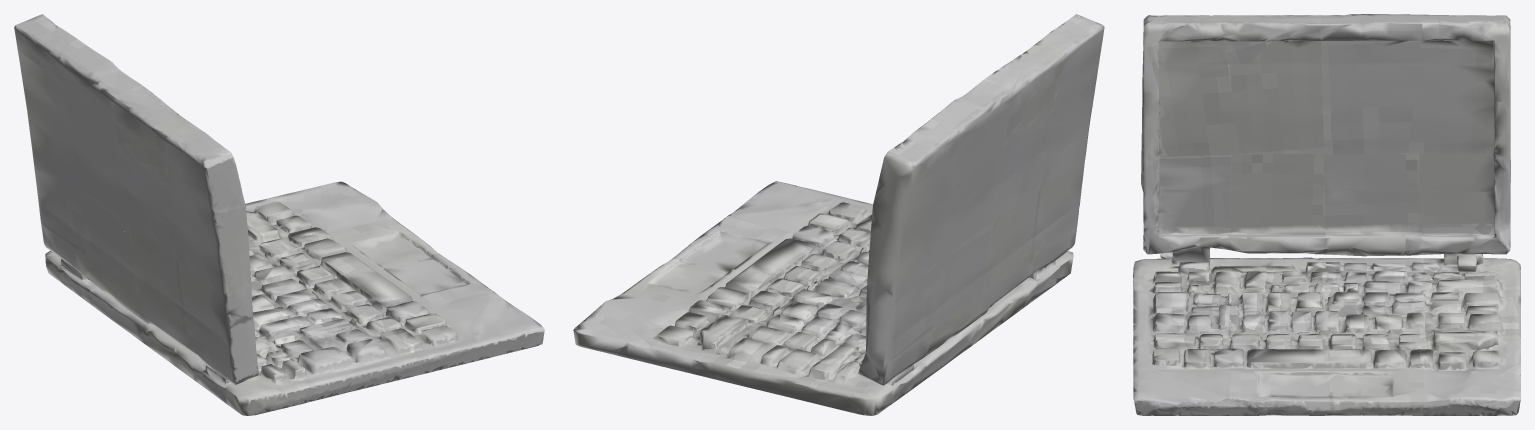
The model's file is l_laptop.glb.
3 renders of one model, left to right at view 1: azimuth 30°, elevation 25°; view 2: azimuth 150°, elevation 25°; view 3: azimuth 270°, elevation 25°, orthographic. The views are drawn at different scales.
Parts seen in each view (by area): view 1: tripo_node_a438e8d8-43f8-4924-bec3-e62648825d39; view 2: tripo_node_a438e8d8-43f8-4924-bec3-e62648825d39; view 3: tripo_node_a438e8d8-43f8-4924-bec3-e62648825d39.
Boxes of the visible parts, x1,y1,x2,y2 form: tripo_node_a438e8d8-43f8-4924-bec3-e62648825d39: [14, 14, 544, 415]; tripo_node_a438e8d8-43f8-4924-bec3-e62648825d39: [573, 14, 1104, 415]; tripo_node_a438e8d8-43f8-4924-bec3-e62648825d39: [1133, 14, 1520, 415].
Size of the model in its own units: 0.958 by 0.7193 by 1.
1 material, 1 textured.
